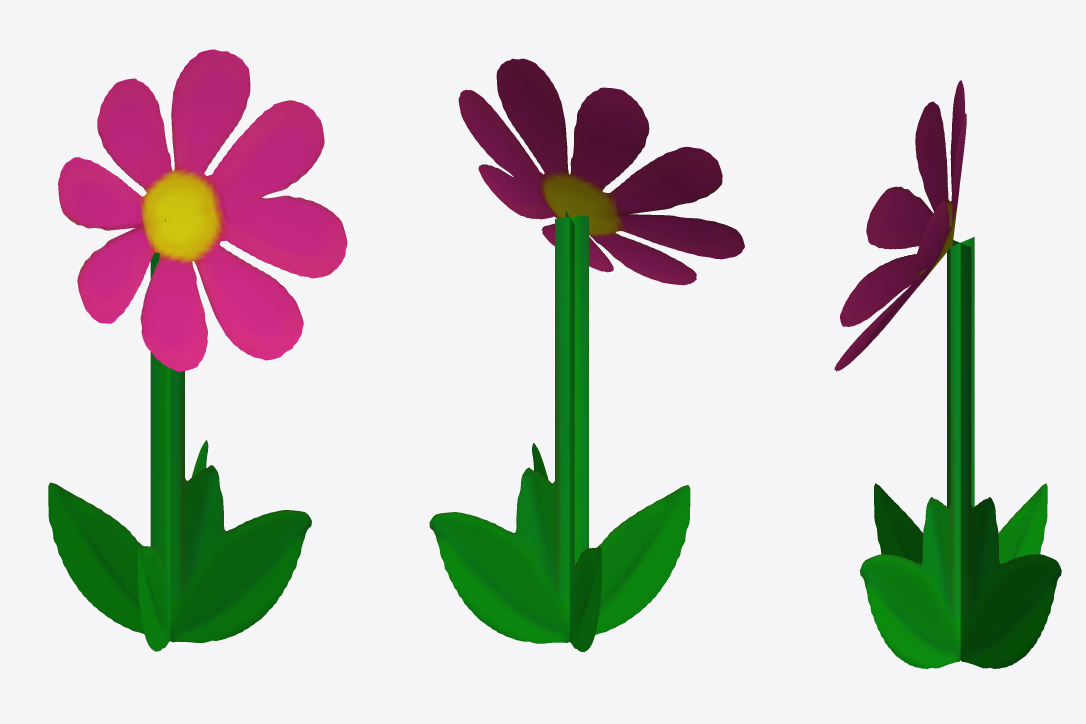
File: Flower01_a01.FBX
The picture shows the model from 3 angles, left to right: view 1: azimuth 30°, elevation 25°; view 2: azimuth 150°, elevation 25°; view 3: azimuth 270°, elevation 25°; orthographic projection. The views are drawn at different scales.
Visible parts, largest first — view 1: Flower01_a01; view 2: Flower01_a01; view 3: Flower01_a01.
Part boxes in pixels (x1=…): Flower01_a01: x1=48, y1=49, x2=347, y2=651; Flower01_a01: x1=429, y1=58, x2=744, y2=652; Flower01_a01: x1=834, y1=80, x2=1061, y2=668.
Bounding box in the file's own units: 39.49 × 80.76 × 32.65.
Materials: 1 (1 with a texture image).
